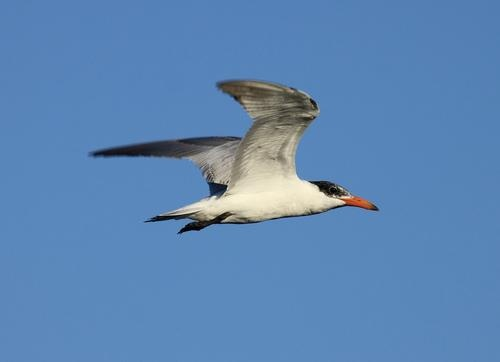bird: (86, 77, 388, 231)
